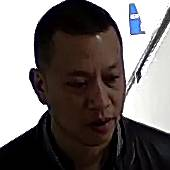qg: (22, 15, 152, 145)
